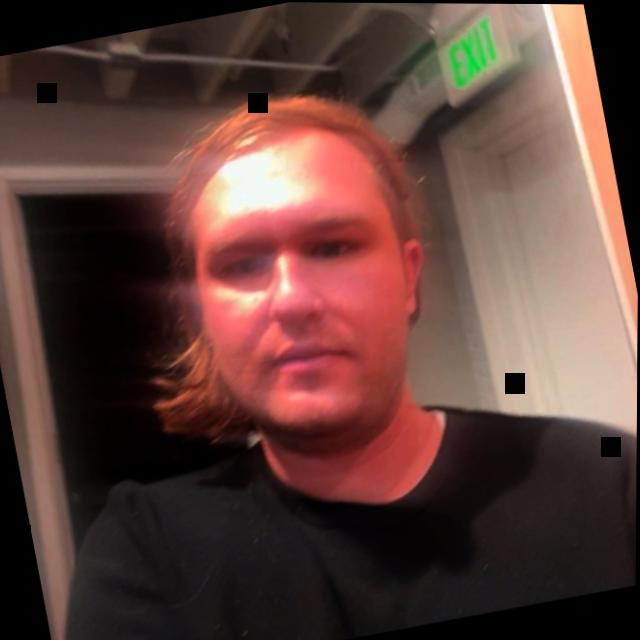NO-Mask: (115, 64, 478, 557)
